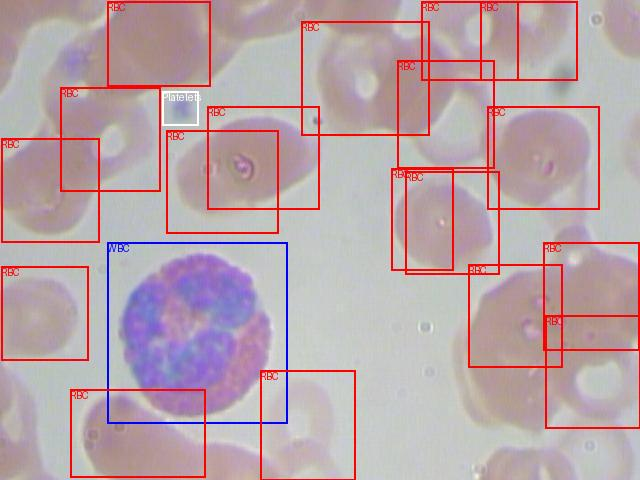Platelets: (162, 91, 198, 125)
RBC: (301, 21, 429, 135), (70, 389, 205, 477), (207, 106, 319, 209), (166, 130, 278, 233), (487, 106, 599, 209), (545, 315, 640, 428), (397, 60, 494, 168), (260, 370, 355, 480), (60, 87, 160, 191), (543, 242, 639, 350), (1, 138, 99, 242), (405, 171, 499, 274), (468, 264, 562, 367), (107, 1, 210, 86), (1, 266, 88, 360), (421, 1, 518, 80), (480, 1, 577, 80), (391, 168, 453, 270)
WBC: (107, 242, 287, 423)
